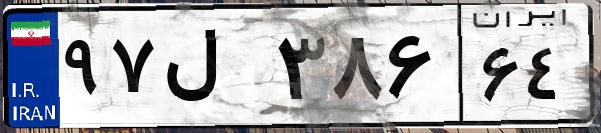3: (270, 28, 330, 110)
4: (525, 38, 570, 115)
6: (385, 28, 445, 110), (475, 38, 525, 113)
7: (110, 28, 158, 98)
8: (330, 28, 385, 110)
9: (57, 26, 110, 100)
ل: (158, 20, 270, 120)
